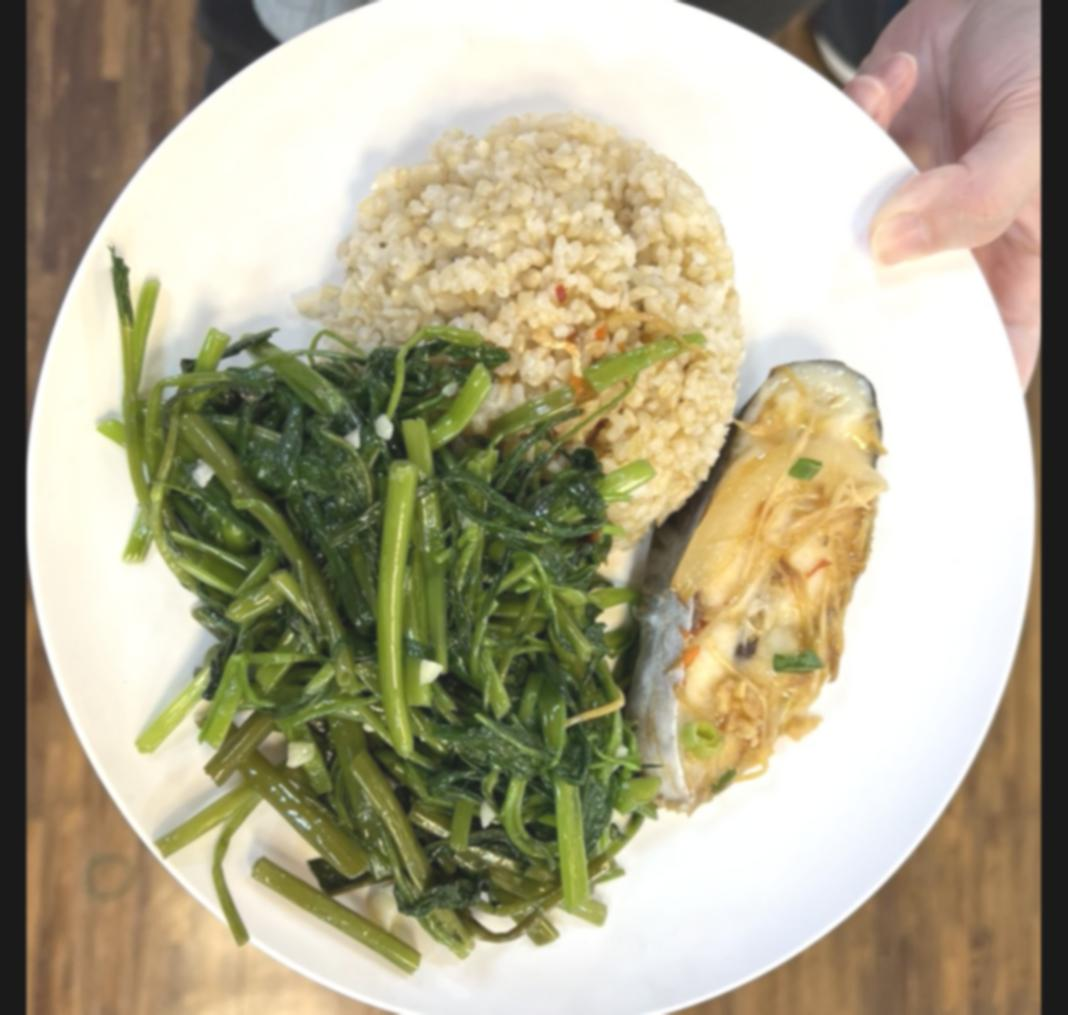big fried chicken leg: (26, 0, 1038, 1015)
box: (334, 119, 751, 536)
braised fish fillet: (110, 334, 651, 974)
braised pork ribs: (623, 361, 901, 811)
